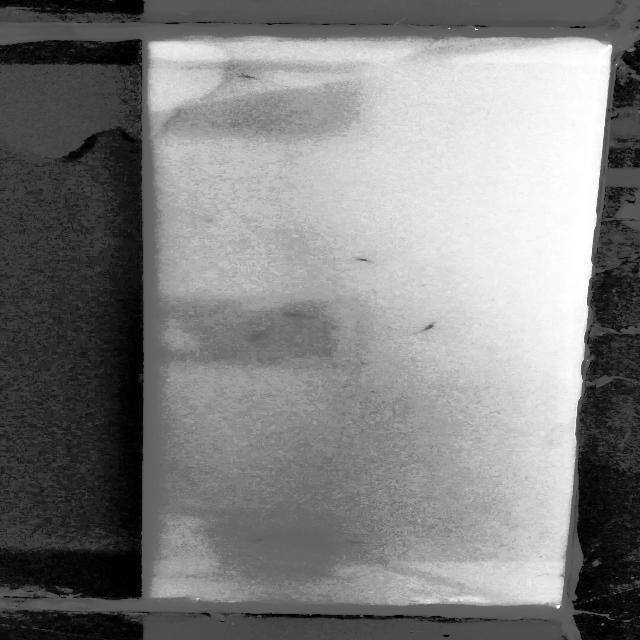shrimp: (275, 307, 320, 320), (408, 319, 444, 335), (250, 324, 275, 344), (238, 71, 268, 83), (252, 532, 284, 543), (348, 254, 378, 264), (344, 538, 372, 546)
